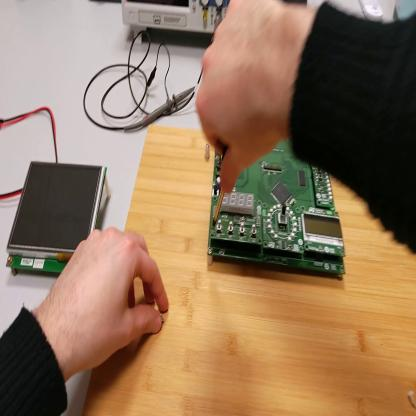hand: (197, 2, 302, 194), (49, 227, 170, 373)
low voltage board: (210, 147, 349, 275)
oscilloscope: (122, 2, 229, 45)
oscilloscope probe tip: (126, 86, 196, 132)
screwdriver-: (212, 154, 226, 233)
welder station: (393, 2, 416, 22)
working area: (84, 124, 416, 416)
